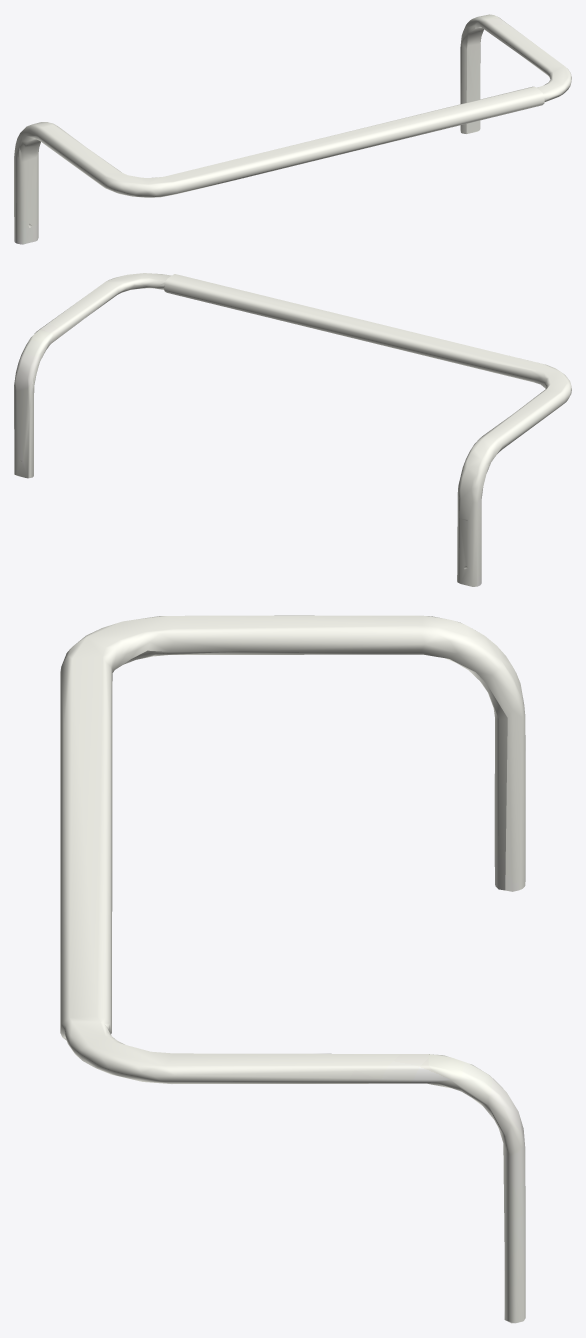
Rendered from 04 - MULIG - 掛衣桿, 白色, 60-90 公分 IKEA 線上購物.glb.
3 views of the same model, one above another, from view 1: azimuth 30°, elevation 25°; view 2: azimuth 150°, elevation 25°; view 3: azimuth 270°, elevation 25° (orthographic). The views are drawn at different scales.
Visible parts, largest first — view 1: ProcessedMeshNode; view 2: ProcessedMeshNode; view 3: ProcessedMeshNode.
Part boxes in pixels (x1,y1,x2,y2): ProcessedMeshNode: (14,14,571,244); ProcessedMeshNode: (14,273,571,586); ProcessedMeshNode: (60,615,525,1323).
Bounding box in the file's own units: 0.6001 × 0.1606 × 0.2602.
Materials: 1 (1 with a texture image).
